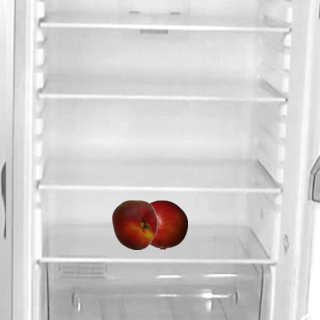Apple Braeburn: (137, 199, 187, 249)
Nectarine Flat: (109, 199, 159, 249)
